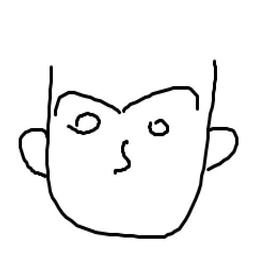ear: (196, 123, 244, 174), (17, 119, 54, 182)
empty_eye: (66, 107, 108, 140), (148, 114, 171, 140)
frowning_eyebrow: (121, 80, 204, 118), (54, 86, 122, 118)
nose: (103, 133, 139, 186)
